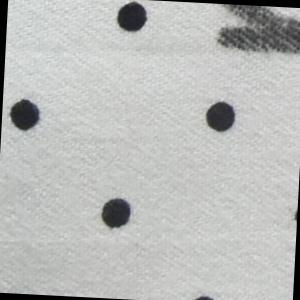Stain: (211, 4, 300, 59)
